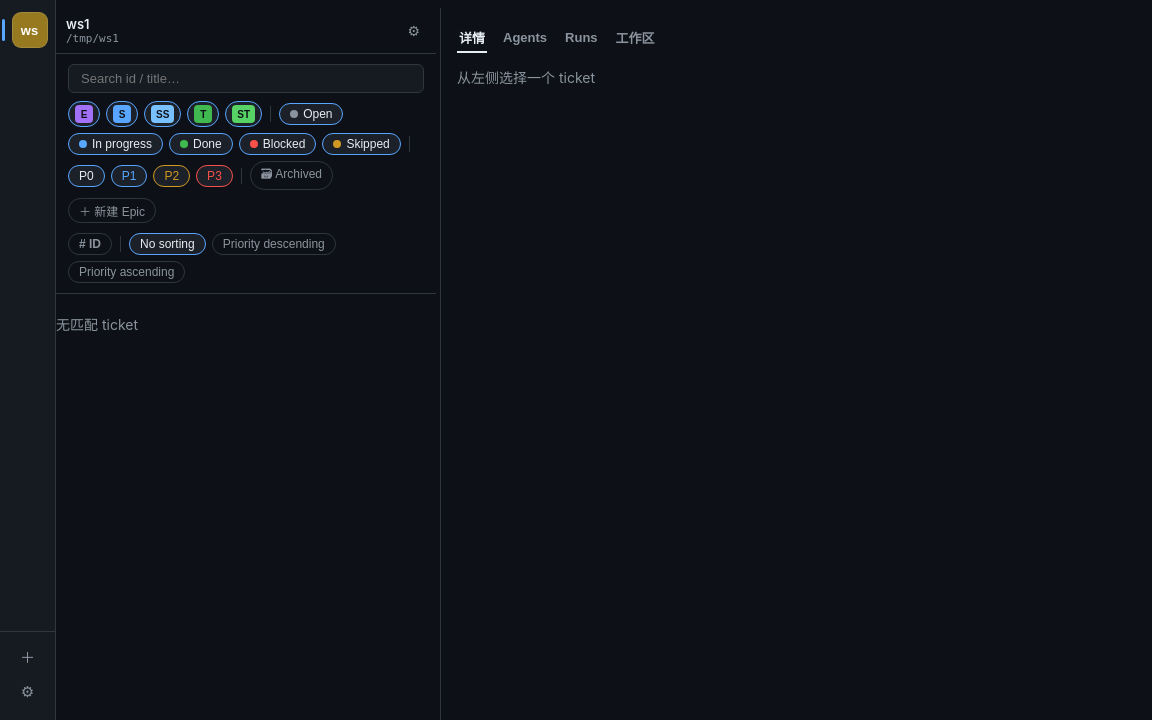
Test: U1 添加工作区（F-TERM-4 / F-TERM-7） › 经「已知未开」添加：按声明返回的 homeId 找回——daemon 回报的路径写法不同（符号链接/首个声明者）也能收录并切换
Click the button titled "添加工作区".
click(28, 656)  # box [12,640,44,672]
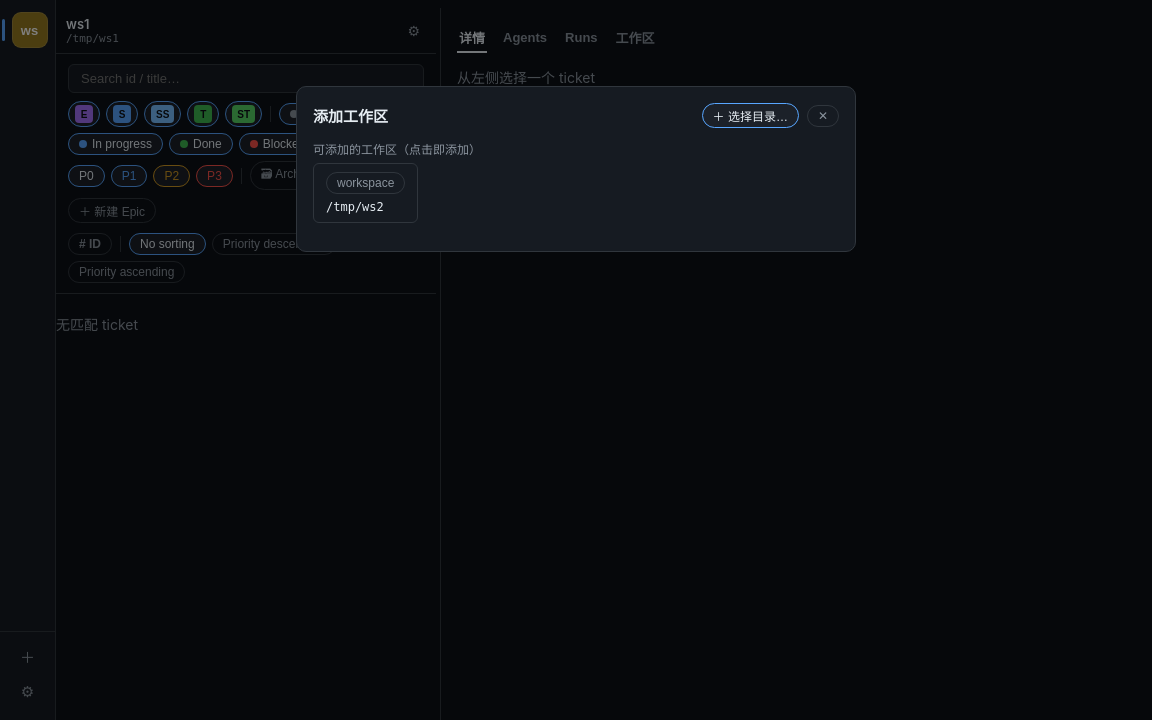
Click the text "/tmp/ws2".
click(355, 207)  # box [326,200,384,214]
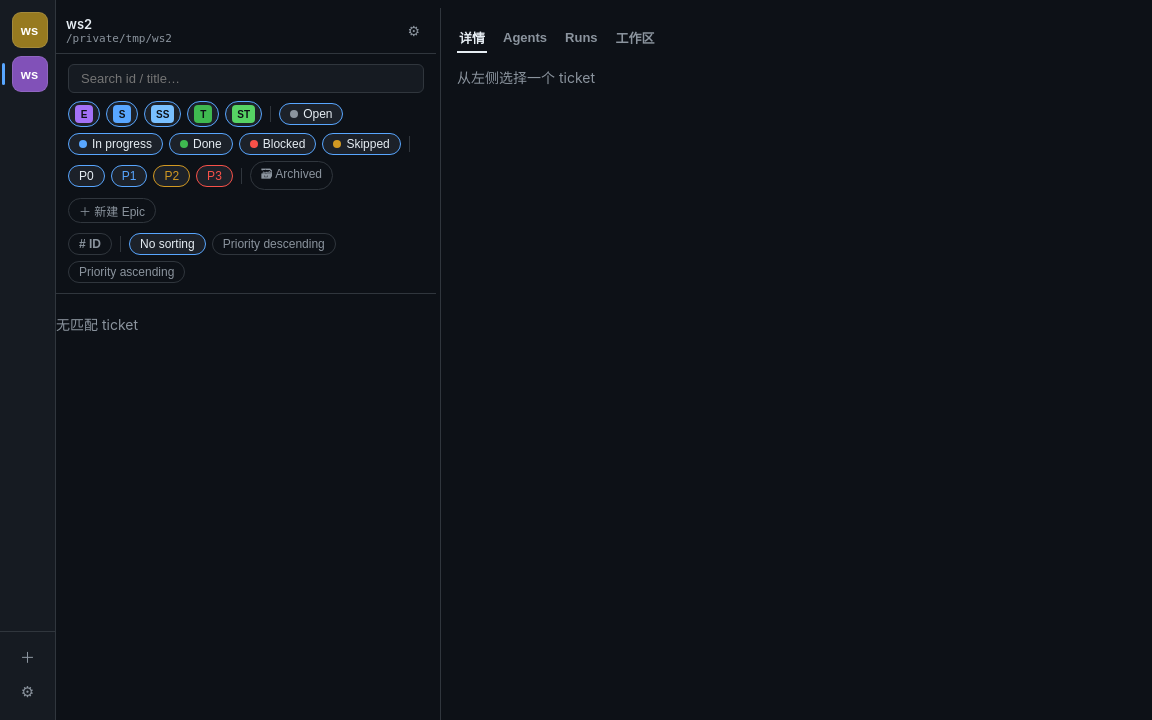
Check: the text with class "workspace-name" reads "ws2", box [66,16,92,32]
